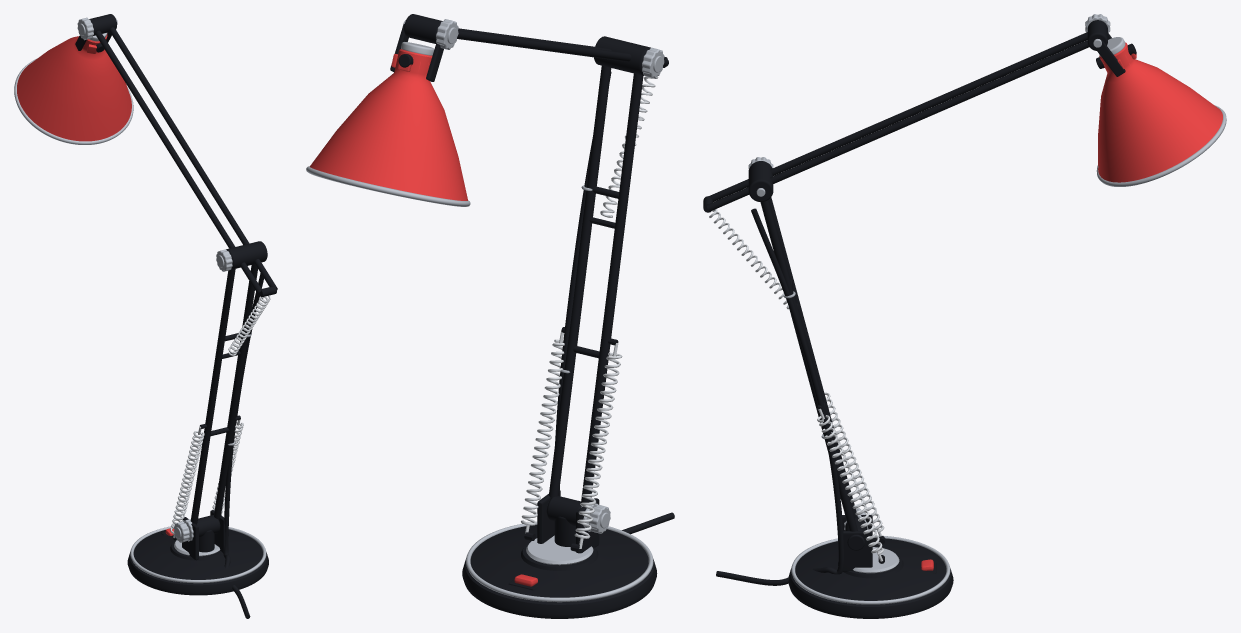
File: DeskLamp.glb
3 renders of one model, left to right at view 1: azimuth 30°, elevation 25°; view 2: azimuth 150°, elevation 25°; view 3: azimuth 270°, elevation 25°, orthographic. The views are drawn at different scales.
Parts seen in each view (by area): view 1: Body__SmoothPlastic__16181E, Shade__SmoothPlastic__E53E3E, Alu__Metal__B8BEC8, Springs__Metal__D9DDE3; view 2: Body__SmoothPlastic__16181E, Shade__SmoothPlastic__E53E3E, Alu__Metal__B8BEC8, Springs__Metal__D9DDE3; view 3: Body__SmoothPlastic__16181E, Shade__SmoothPlastic__E53E3E, Alu__Metal__B8BEC8, Springs__Metal__D9DDE3.
Part boxes in pixels (x1,y1,x2,y2): Body__SmoothPlastic__16181E: [75, 14, 277, 618]; Shade__SmoothPlastic__E53E3E: [17, 34, 174, 535]; Alu__Metal__B8BEC8: [14, 17, 267, 583]; Springs__Metal__D9DDE3: [170, 295, 270, 538]; Body__SmoothPlastic__16181E: [390, 14, 674, 618]; Shade__SmoothPlastic__E53E3E: [309, 49, 537, 586]; Alu__Metal__B8BEC8: [306, 19, 664, 602]; Springs__Metal__D9DDE3: [521, 76, 658, 548]; Body__SmoothPlastic__16181E: [703, 20, 1136, 618]; Shade__SmoothPlastic__E53E3E: [921, 42, 1222, 570]; Alu__Metal__B8BEC8: [748, 14, 1226, 604]; Springs__Metal__D9DDE3: [709, 209, 884, 561].
Size of the model in its own units: 45.2 by 169 by 143.
